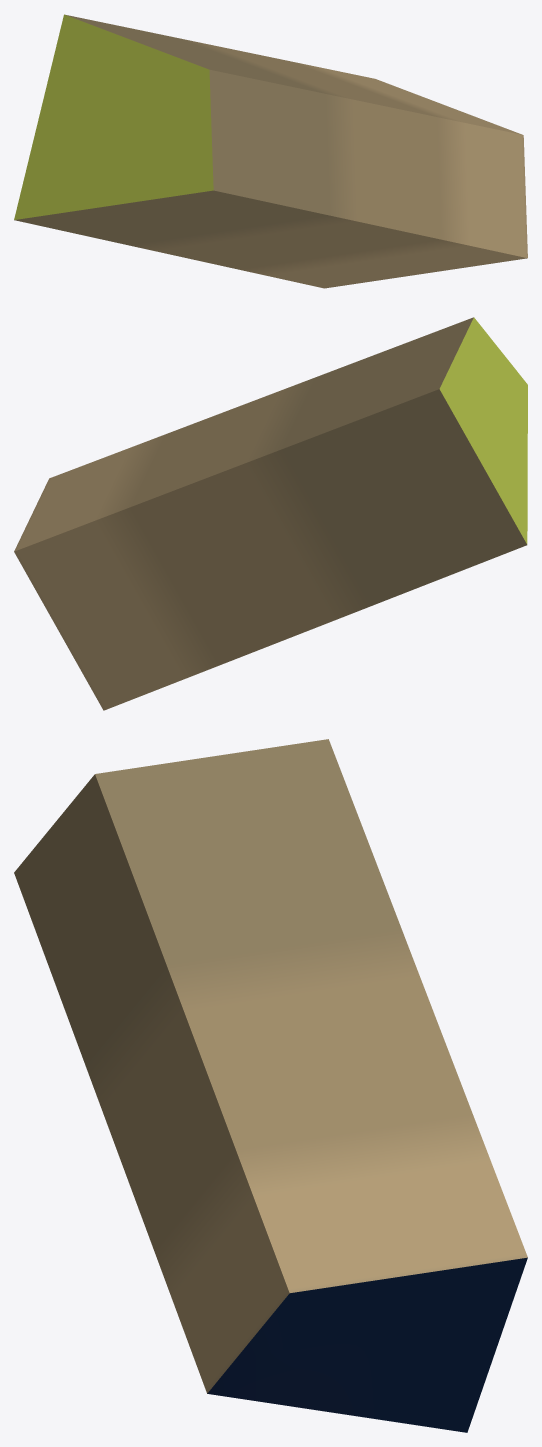
Rendered from 05e5_Saint_Kitts_and_Nevis.glb.
3 renders of one model, top to bottom at view 1: azimuth 30°, elevation 25°; view 2: azimuth 150°, elevation 25°; view 3: azimuth 270°, elevation 25°, orthographic. The views are drawn at different scales.
Visible parts, largest first — view 1: part_0; view 2: part_0; view 3: part_0.
Part boxes in pixels (x1,y1,x2,y2): part_0: (14,14,527,288); part_0: (14,317,527,710); part_0: (14,739,527,1432).
Size of the model in its own units: 0.2244 by 0.1618 by 0.1513.
1 material, 1 textured.
